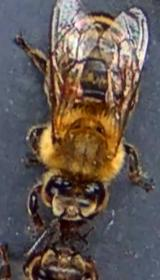varroa_mite: (56, 75, 86, 100)
